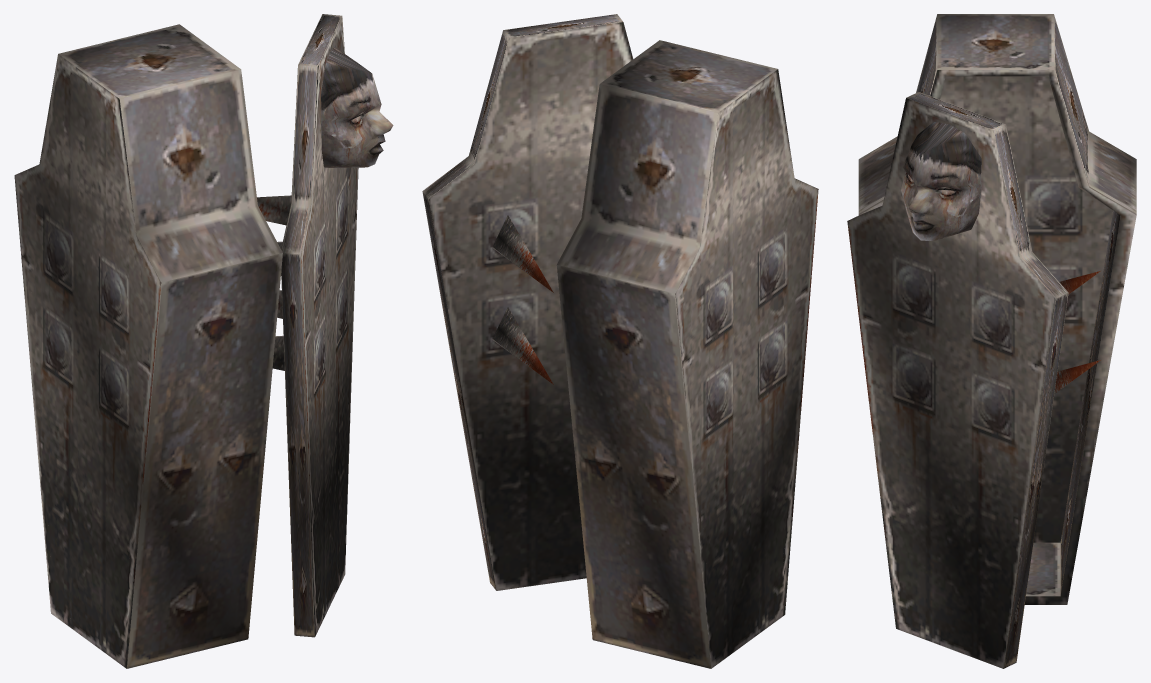
The model's file is generalironmaiden01.obj.
3 views of the same model, side by side, from view 1: azimuth 30°, elevation 25°; view 2: azimuth 150°, elevation 25°; view 3: azimuth 270°, elevation 25° (orthographic). The views are drawn at different scales.
Visible parts, largest first — view 1: generalironmaiden01; view 2: generalironmaiden01; view 3: generalironmaiden01.
Part boxes in pixels (x1,y1,x2,y2): generalironmaiden01: (14,14,393,668); generalironmaiden01: (422,14,818,668); generalironmaiden01: (847,14,1136,668).
Size of the model in its own units: 1.55 by 2.77 by 1.36.
1 material, 1 textured.
